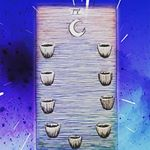cups: (94, 41, 113, 59), (94, 121, 113, 139), (43, 121, 62, 139), (96, 70, 114, 88), (39, 41, 57, 59), (39, 98, 56, 116), (99, 94, 116, 111), (66, 134, 83, 150), (40, 70, 56, 87)
